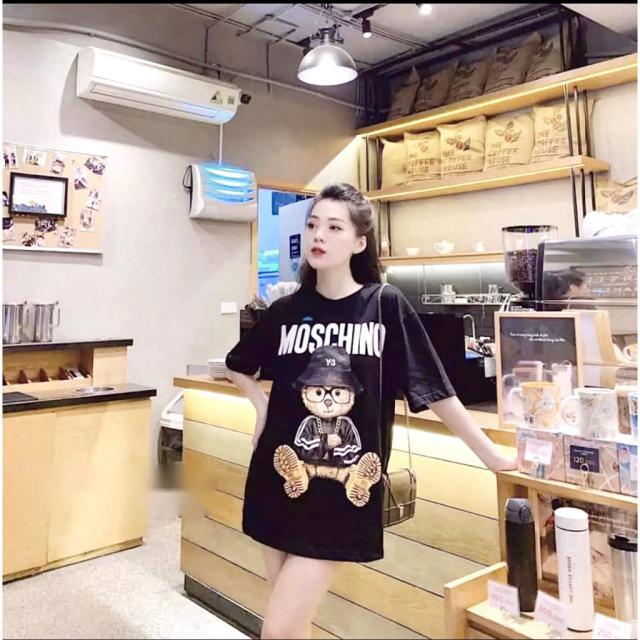Shirt: (220, 275, 463, 568)
